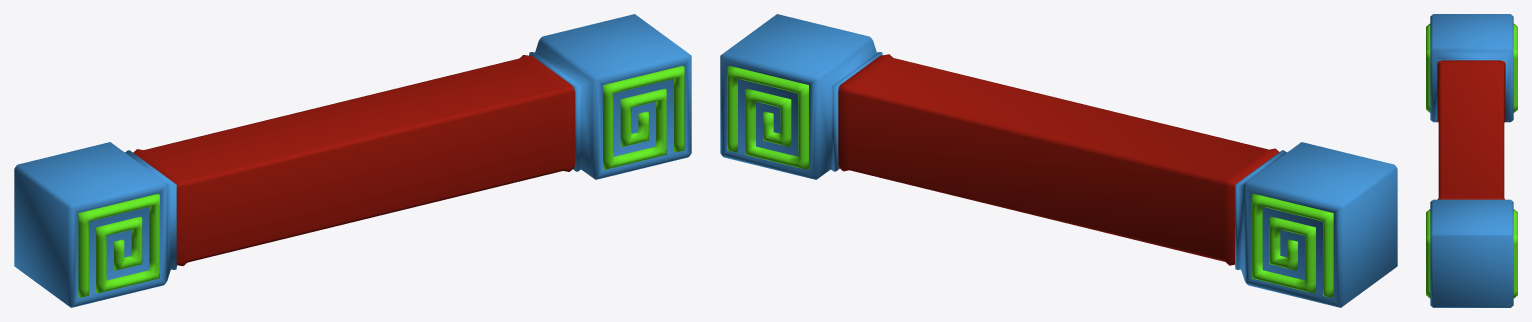
File: New_Trim.fbx
The picture shows the model from 3 angles, left to right: view 1: azimuth 30°, elevation 25°; view 2: azimuth 150°, elevation 25°; view 3: azimuth 270°, elevation 25°; orthographic projection. The views are drawn at different scales.
Visible parts, largest first — view 1: ChamferBox010; view 2: ChamferBox010; view 3: ChamferBox010.
Part boxes in pixels (x1,y1,x2,y2): ChamferBox010: (14, 14, 691, 307); ChamferBox010: (720, 14, 1397, 307); ChamferBox010: (1426, 14, 1517, 307).
Size of the model in its own units: 150 by 24 by 26.41.
